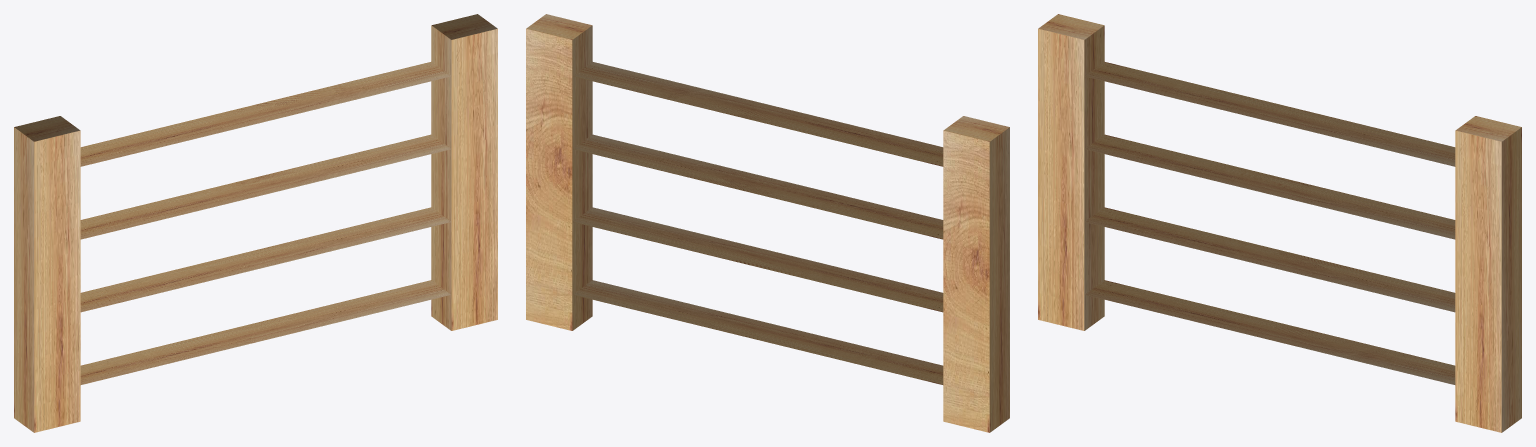
Rendered from fence.obj.
3 renders of one model, left to right at view 1: azimuth 30°, elevation 25°; view 2: azimuth 150°, elevation 25°; view 3: azimuth 330°, elevation 25°, orthographic.
Parts seen in each view (by area): view 1: Fence; view 2: Fence; view 3: Fence.
Part boxes in pixels (x1=…): Fence: x1=14, y1=14, x2=497, y2=432; Fence: x1=526, y1=14, x2=1009, y2=432; Fence: x1=1038, y1=14, x2=1521, y2=432.
Size of the model in its own units: 2 by 1.2 by 0.15.
1 material, 1 textured.
